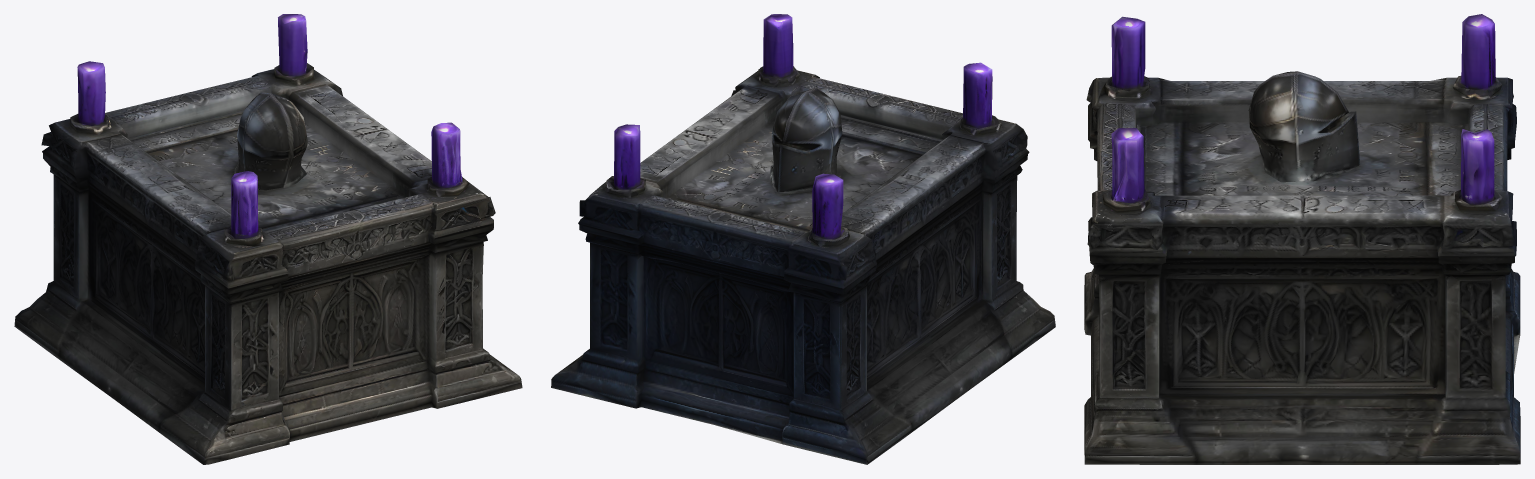
File: gothic+altar+3d+model.obj
3 renders of one model, left to right at view 1: azimuth 30°, elevation 25°; view 2: azimuth 150°, elevation 25°; view 3: azimuth 270°, elevation 25°, orthographic. The views are drawn at different scales.
Parts seen in each view (by area): view 1: tripo_node_993dbfb7-d1e2-4960-bccb-81886197824c; view 2: tripo_node_993dbfb7-d1e2-4960-bccb-81886197824c; view 3: tripo_node_993dbfb7-d1e2-4960-bccb-81886197824c.
Boxes of the visible parts, box(x1,y1,x2,y2) form: tripo_node_993dbfb7-d1e2-4960-bccb-81886197824c: box(14, 14, 522, 464); tripo_node_993dbfb7-d1e2-4960-bccb-81886197824c: box(551, 14, 1055, 464); tripo_node_993dbfb7-d1e2-4960-bccb-81886197824c: box(1084, 14, 1520, 464).
Size of the model in its own units: 0.9677 by 0.77 by 0.9999.
Materials: 1 (1 with a texture image).
